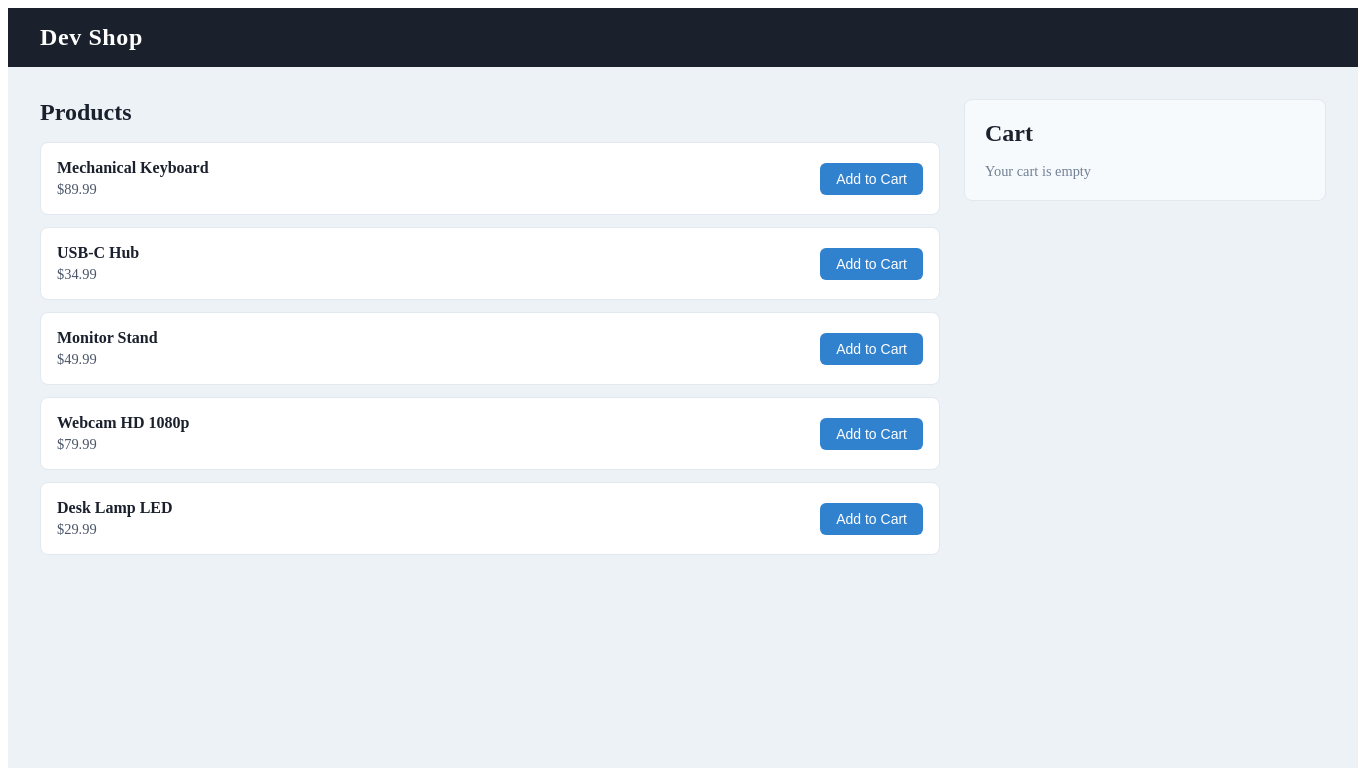
Scenario: Add to cart › increases quantity to 2 when the same product is added twice
Click the button "Add to Cart" in the row of "Mechanical Keyboard": click(872, 178) [820,162,923,194]
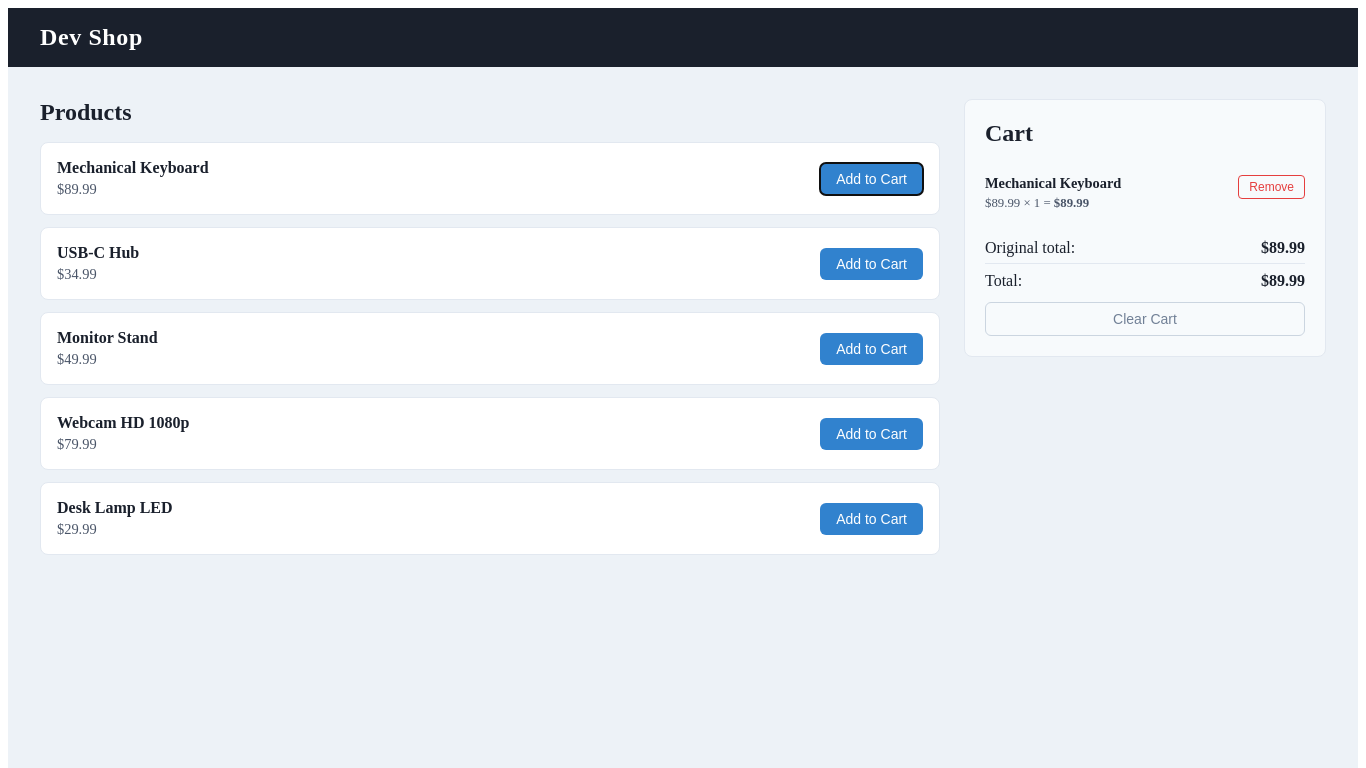
Click the 1st button "Add to Cart": click(872, 178) [820,162,923,194]
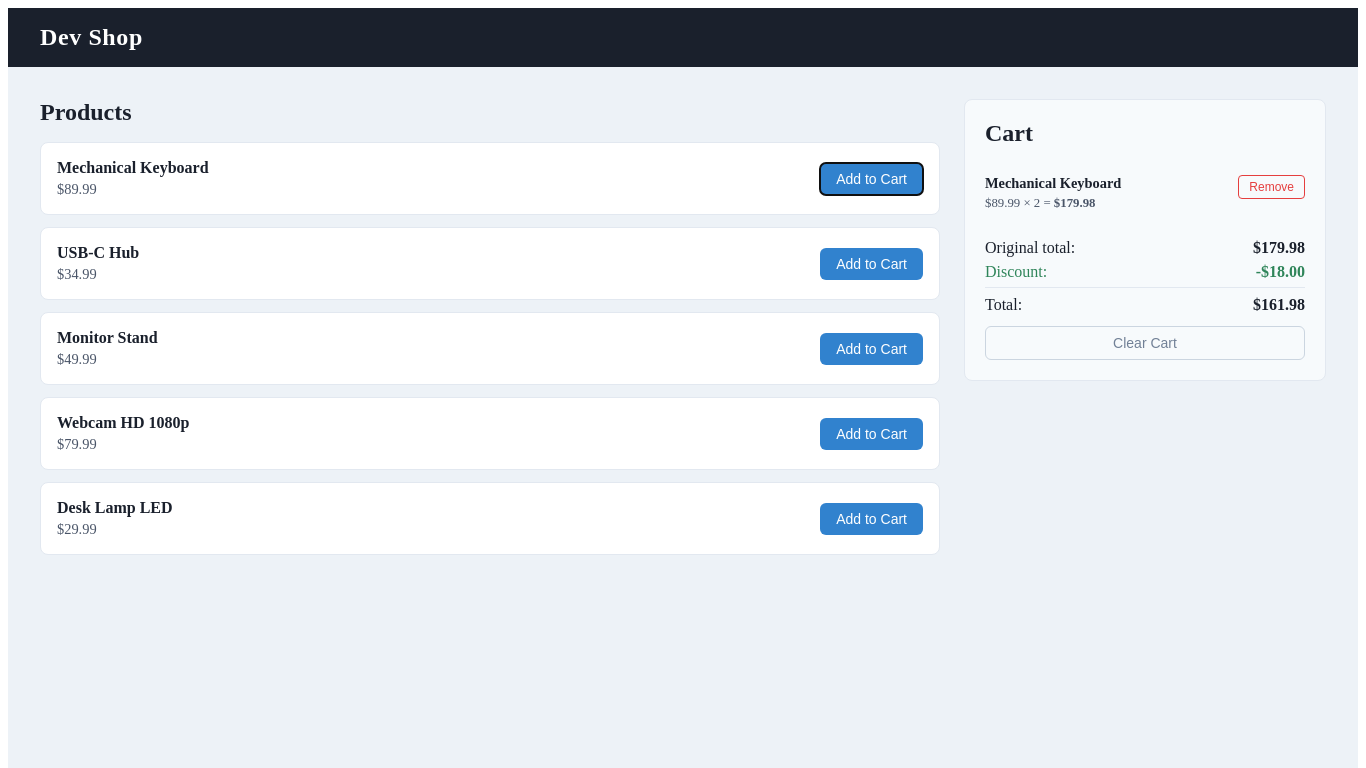
Result: the text "$89.99 × 2 = $179.98" is shown at [985,196,1096,210]
